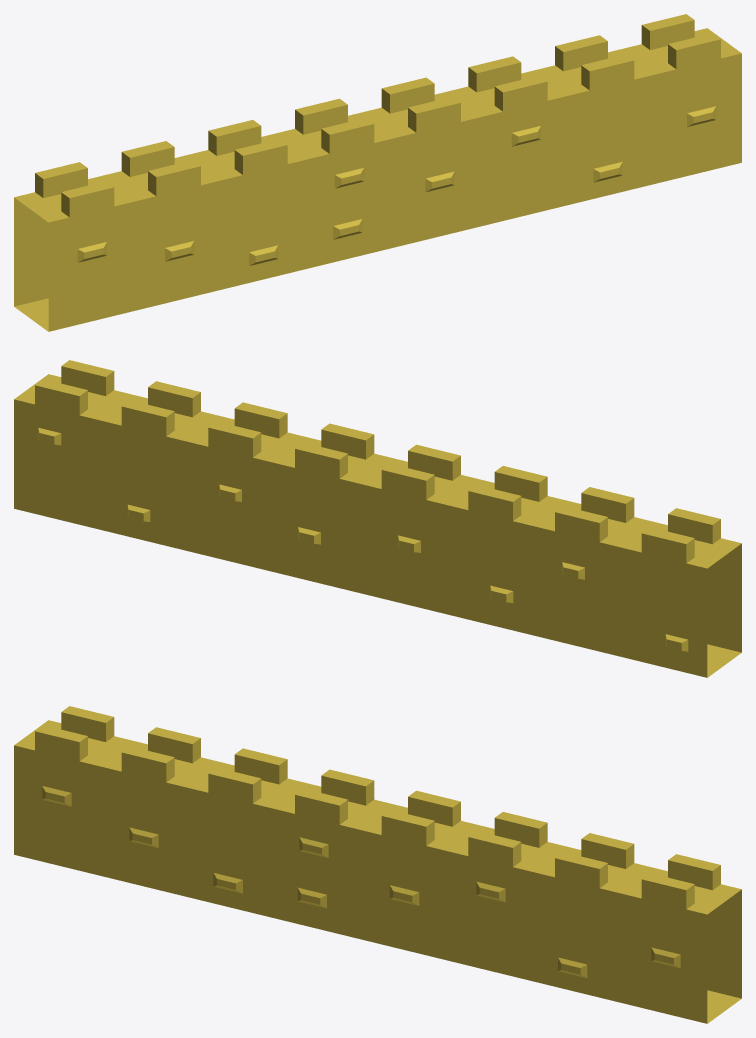
The model's file is wall_lvl_1 1.fbx.
3 views of the same model, one above another, from view 1: azimuth 30°, elevation 25°; view 2: azimuth 150°, elevation 25°; view 3: azimuth 330°, elevation 25° (orthographic).
Parts seen in each view (by area): view 1: wall; view 2: wall; view 3: wall.
Boxes of the visible parts, left/top/right/bottom form: wall: left=14, top=14, right=741, bottom=331; wall: left=14, top=360, right=741, bottom=677; wall: left=14, top=706, right=741, bottom=1023.
Bounding box in the file's own units: 106 × 18.81 × 10.57.
